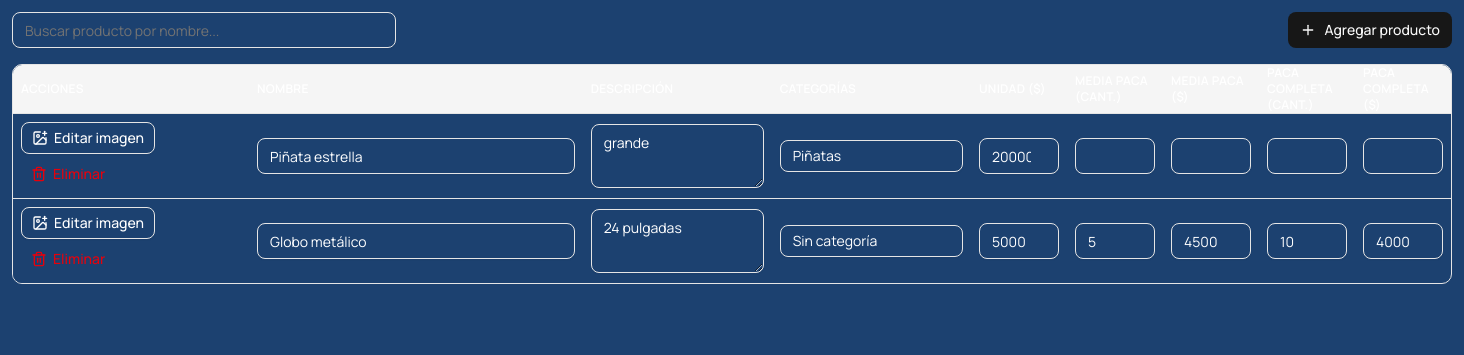
Test: ProductEditorTable › dismisses the global error banner when 'Cerrar' is clicked
In the 1st field showing "Piñata estrella": (416, 156) [257,138,575,174], type " grande"
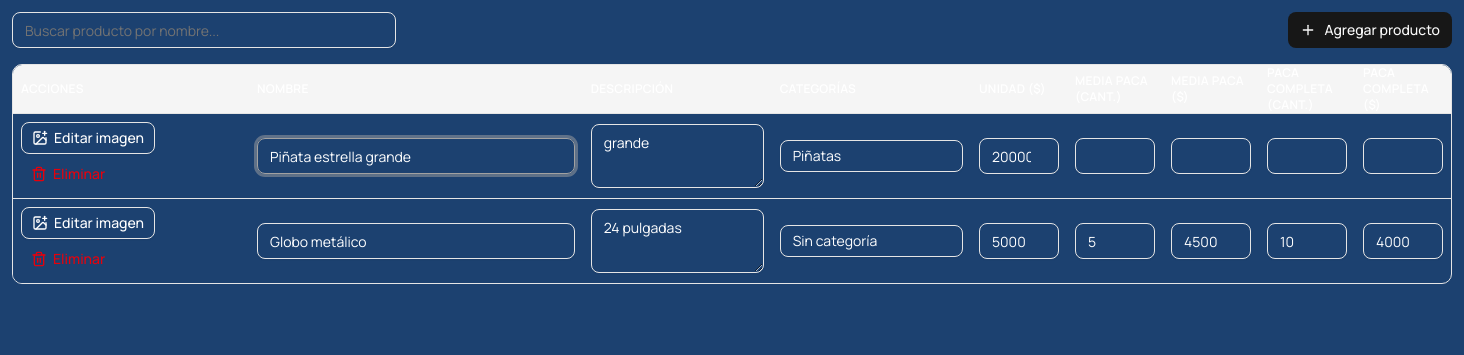
Press Tab
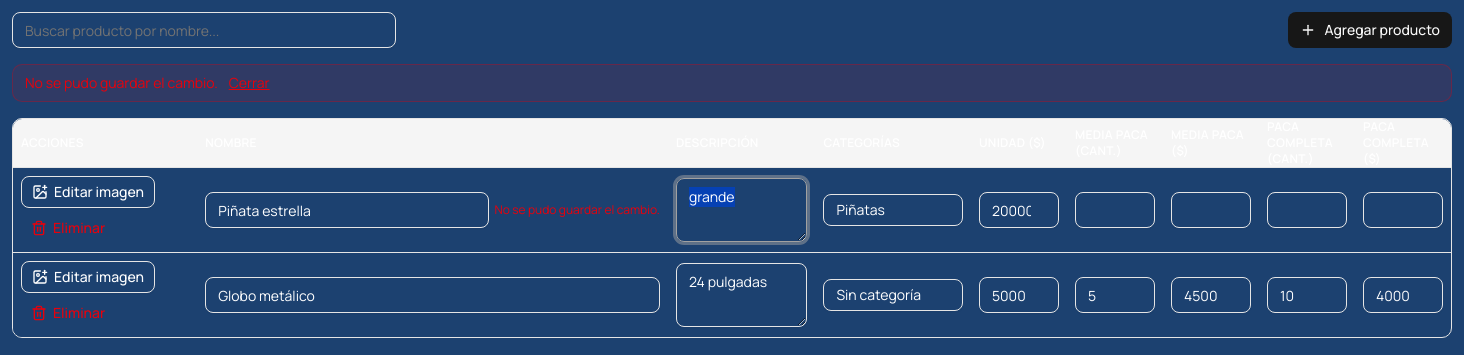
Click the button "Cerrar": (249, 83) [229,73,270,93]
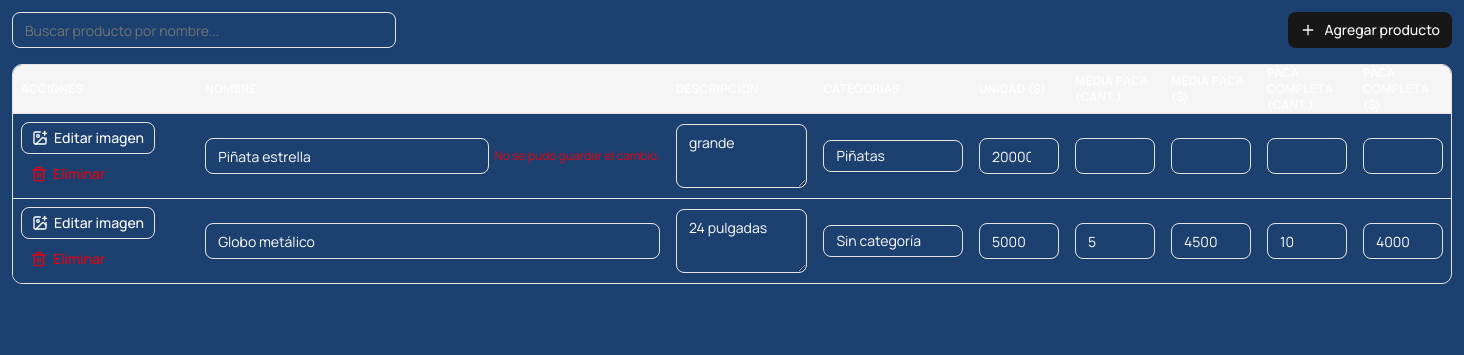
Expected: the element with test id "global-error-banner" is gone
